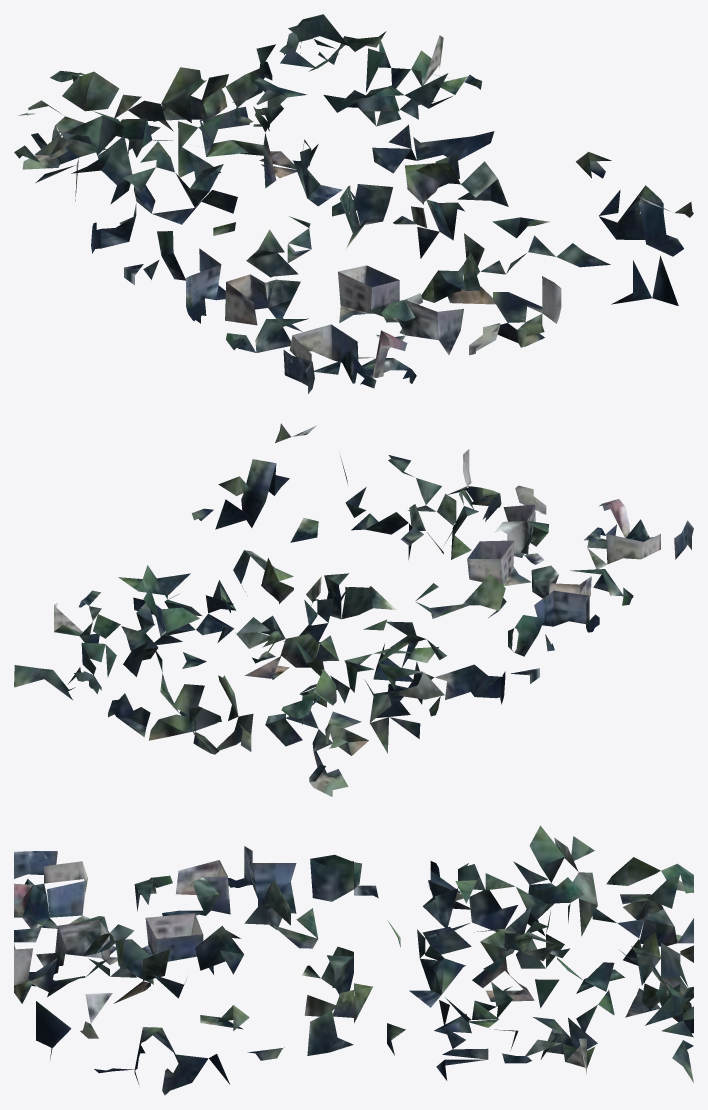
3 renders of one model, top to bottom at view 1: azimuth 30°, elevation 25°; view 2: azimuth 150°, elevation 25°; view 3: azimuth 270°, elevation 25°, orthographic. The views are drawn at different scales.
Visible parts, largest first — view 1: 304362727043615346_1; view 2: 304362727043615346_1; view 3: 304362727043615346_1.
Boxes of the visible parts, x1,y1,x2,y2 form: 304362727043615346_1: [14, 14, 693, 393]; 304362727043615346_1: [14, 423, 693, 796]; 304362727043615346_1: [14, 825, 693, 1095].
Size of the model in its own units: 109 by 28.97 by 153.
Materials: 1 (1 with a texture image).
